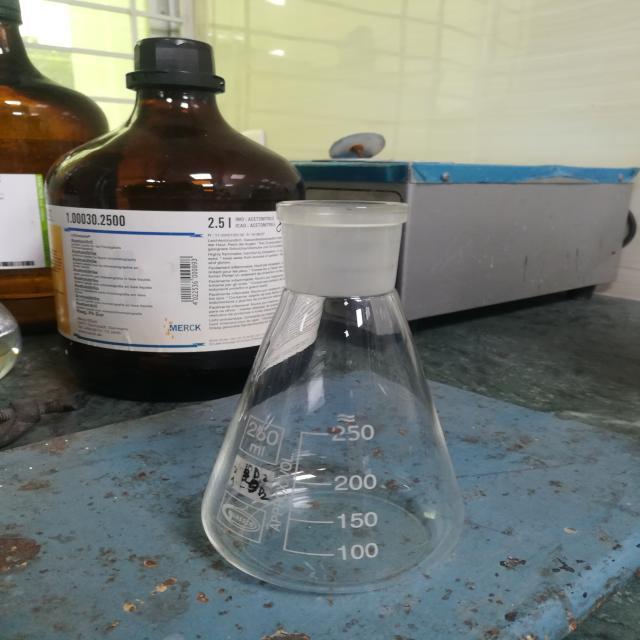Conical_Flask: (164, 136, 500, 614)
